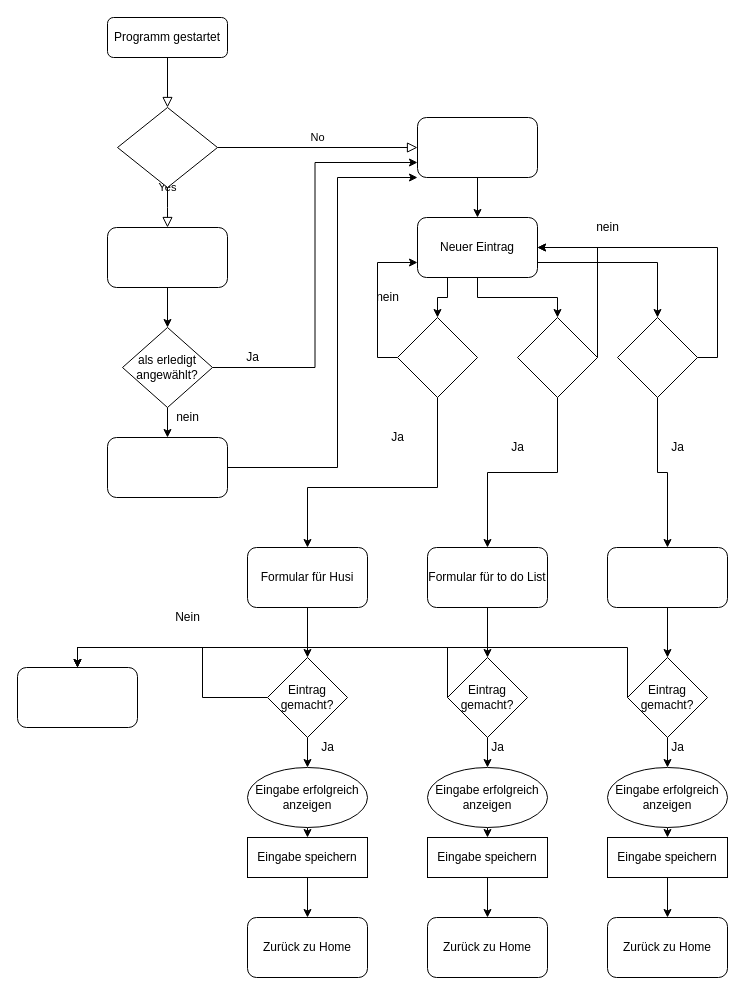
Some shapes in this 745 by 995 pixel diagram are drawn without their labels. Here are the shapes that lost their labels. From the top down, the centre of each, then its label:
At point 167,147: "Eingaben vorhanden?".
At point 477,147: "Zum Home".
At point 167,257: "Die schon gespeicherten Eingaben anzeigen (Erinnern)".
At point 437,357: "Husi?".
At point 557,357: "to do List?".
At point 657,357: "Checklist".
At point 167,467: "die Eingegeben Daten behalten und fortfahren".
At point 667,577: "Formular für Checklist".
At point 77,697: "Fehler zurück zu Home".
